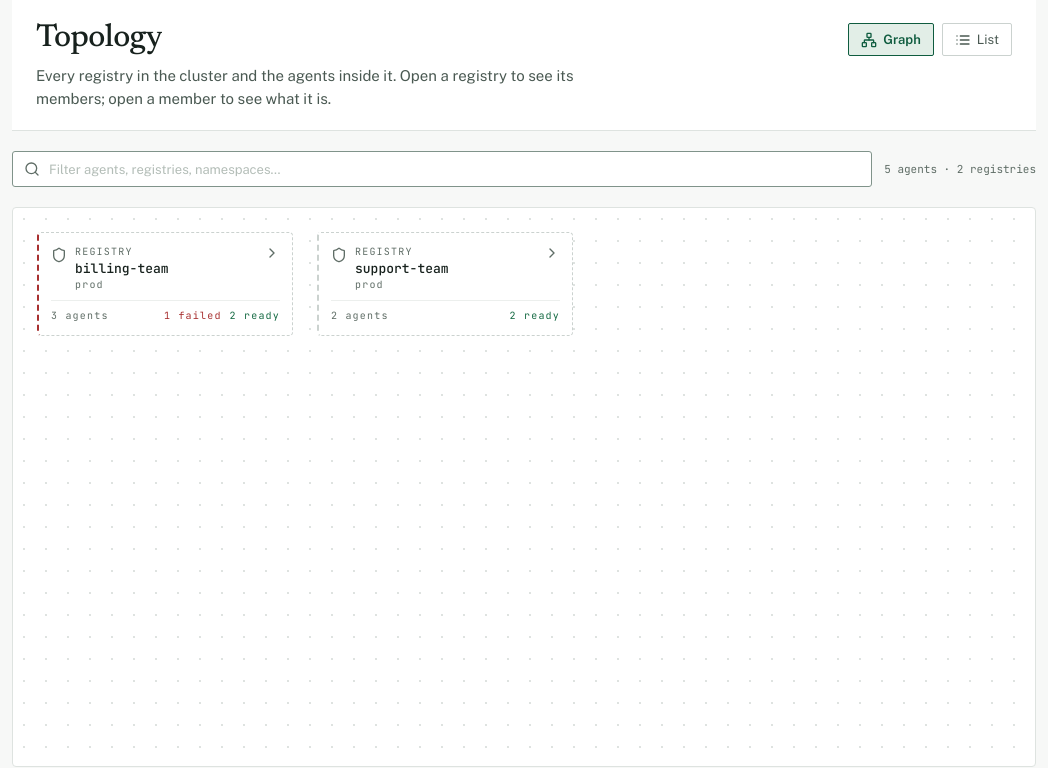
TopologyPage — grouped graph view › switches back to graph view
Click the radio button with test id "toggle-list" at (977, 40), box left=942, top=23, right=1012, bottom=56
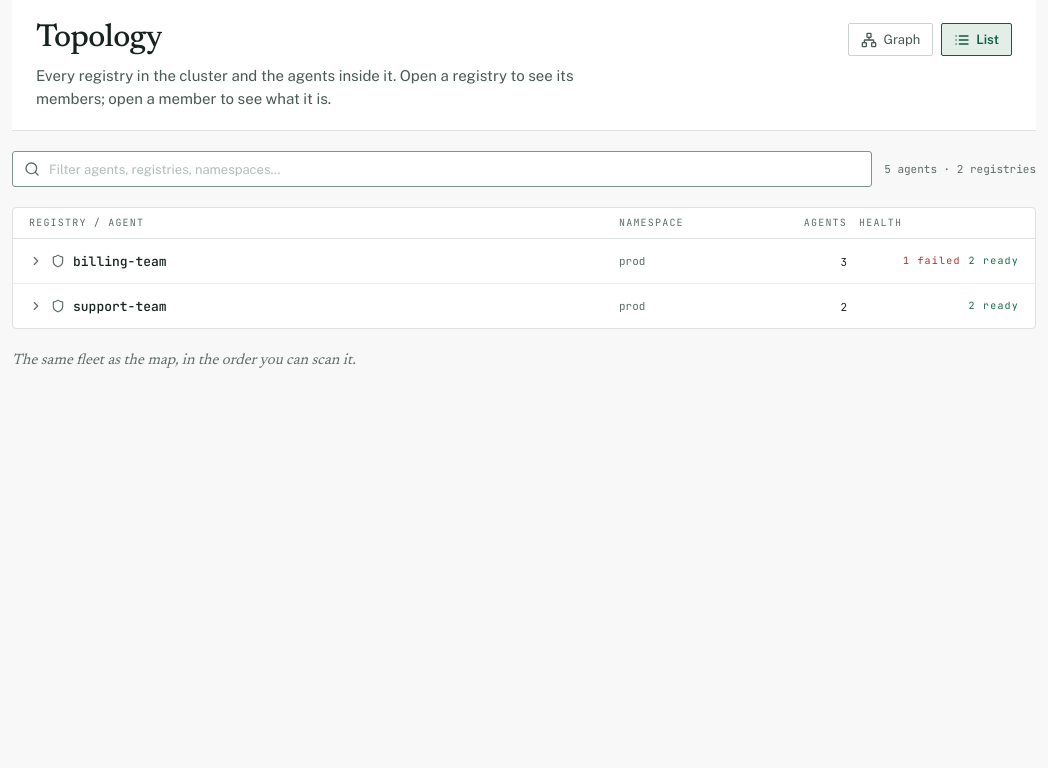
Click the radio button with test id "toggle-graph" at (891, 40), box left=848, top=23, right=933, bottom=56
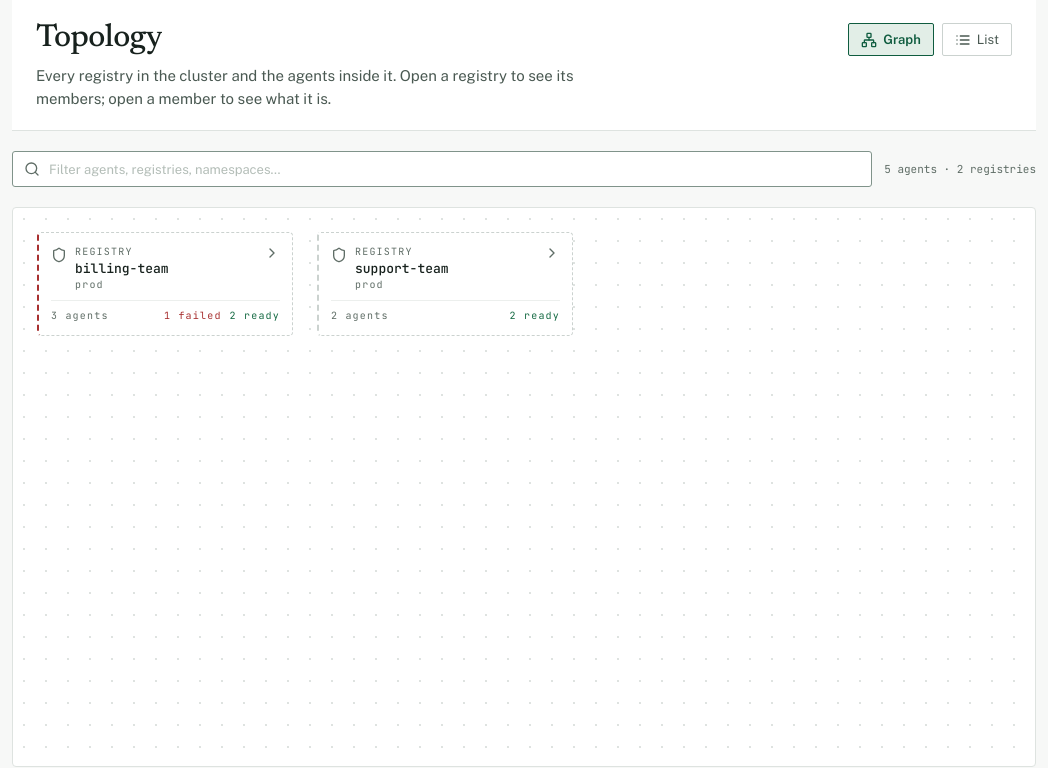
Expected: the element with test id "topology-graph-view" is shown
